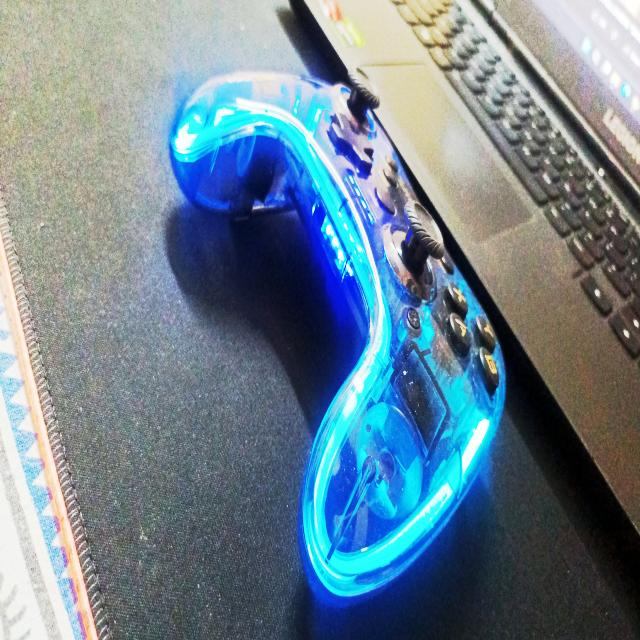gamepad: (168, 68, 507, 602)
